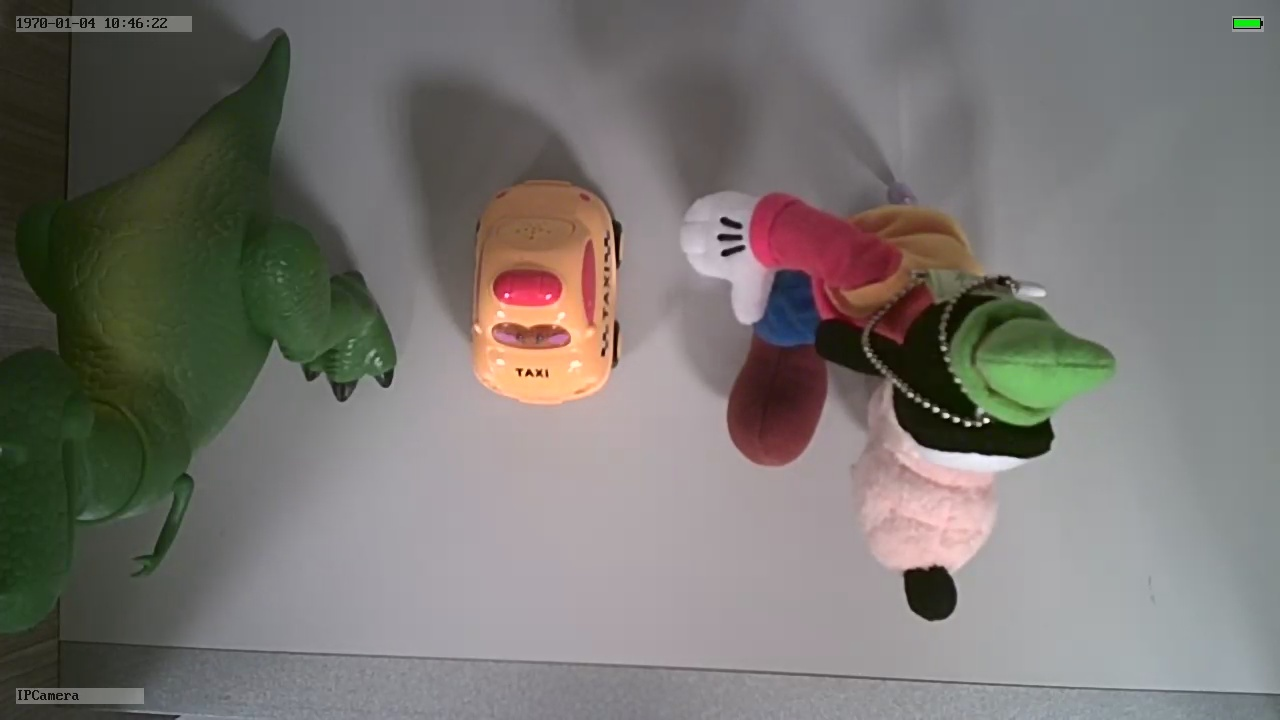car: (463, 174, 631, 410)
goofy: (674, 185, 1119, 637)
